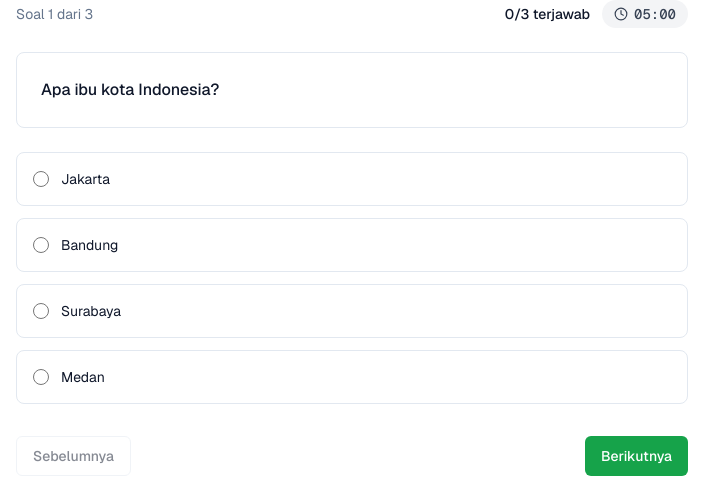
Scenario: QuizComponent › navigates to previous question when "Sebelumnya" is clicked
// Go to next
Click the button "Berikutnya" at x=636, y=456, box top-left (585, 436), bottom-right (688, 476)
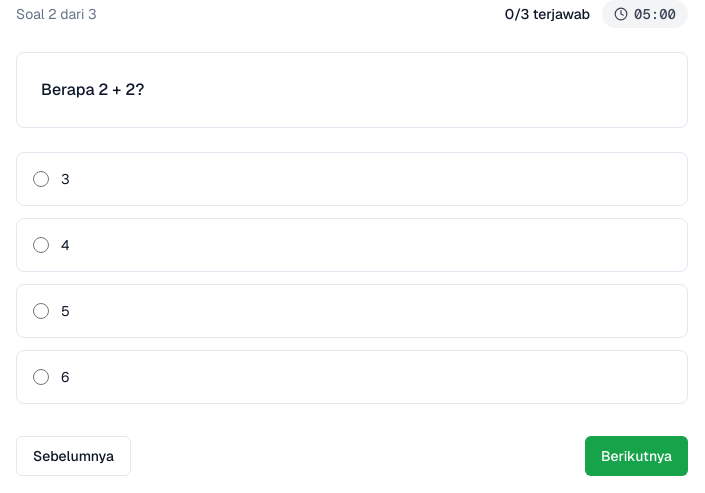
expect the text "Berapa 2 + 2?" is shown: met, box top-left (41, 79), bottom-right (144, 100)
//  Go back
Click the button "Sebelumnya" at x=73, y=456, box top-left (16, 436), bottom-right (131, 476)
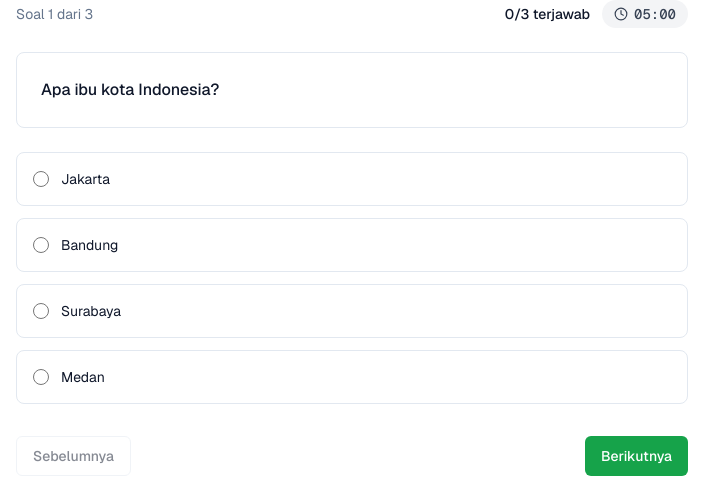
expect the text "Apa ibu kota Indonesia?" is shown: met, box top-left (41, 79), bottom-right (219, 100)
